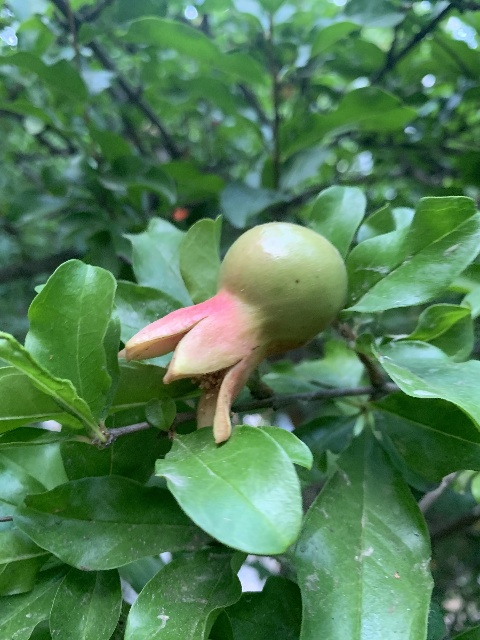mid-growth: (125, 220, 347, 444)
